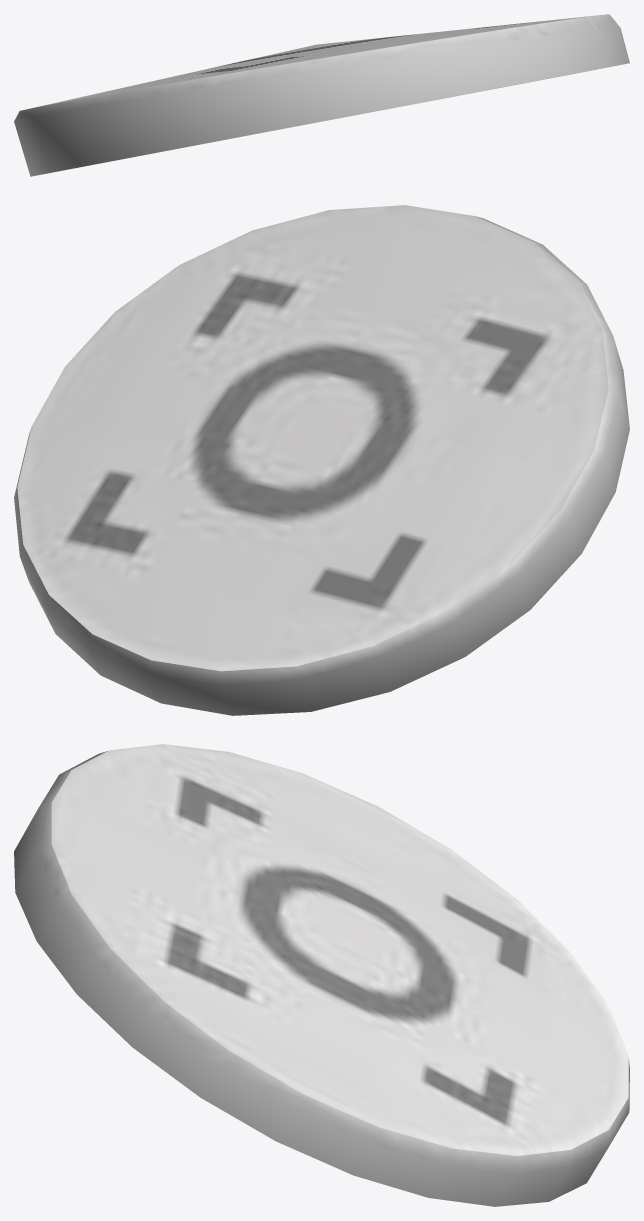
The picture shows the model from 3 angles, top to bottom: view 1: azimuth 30°, elevation 25°; view 2: azimuth 150°, elevation 25°; view 3: azimuth 270°, elevation 25°; orthographic projection. The views are drawn at different scales.
Bounding box in the file's own units: 0.00888 × 0.00477 × 0.00823.
Materials: 1 (1 with a texture image).
